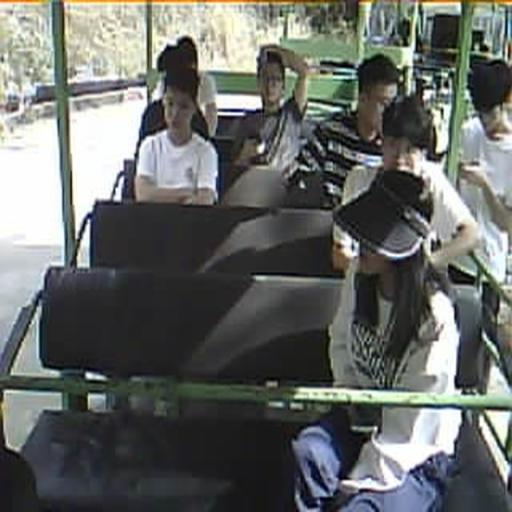persona: (291, 170, 465, 511), (334, 93, 480, 278), (294, 52, 402, 200), (134, 46, 220, 205), (230, 43, 311, 182), (138, 34, 218, 144), (138, 47, 208, 149)
